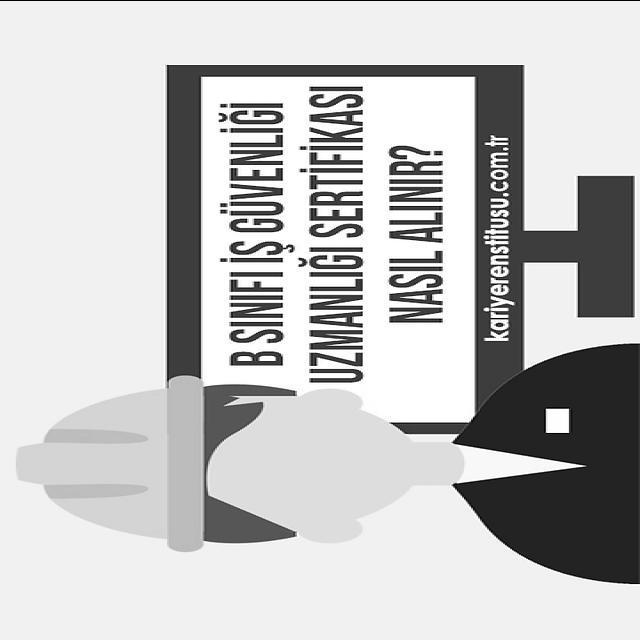safety_helmet: (14, 374, 208, 551)
